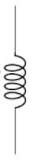inductor: (0, 47, 31, 111)
